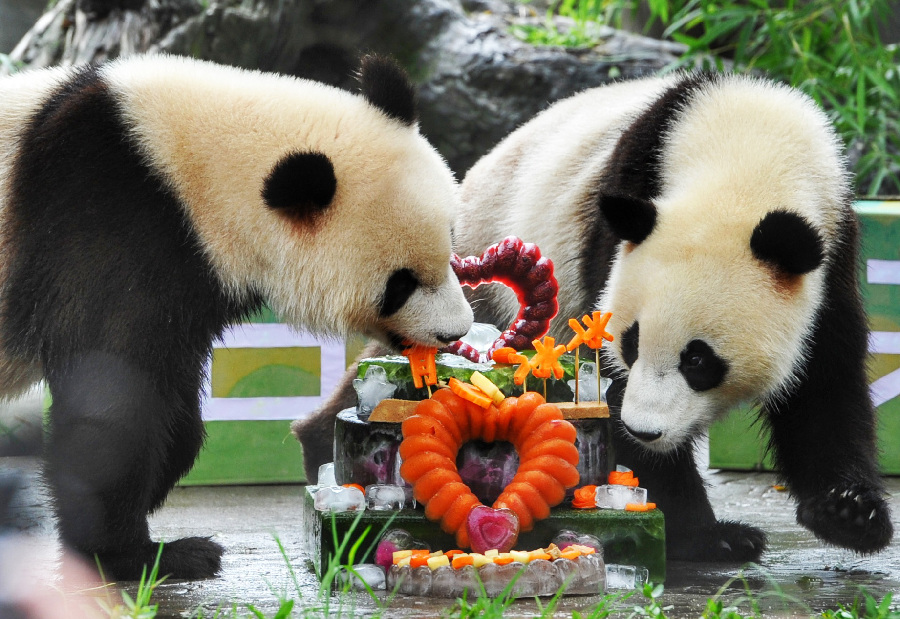panda: (16, 42, 470, 590), (435, 72, 887, 597)
